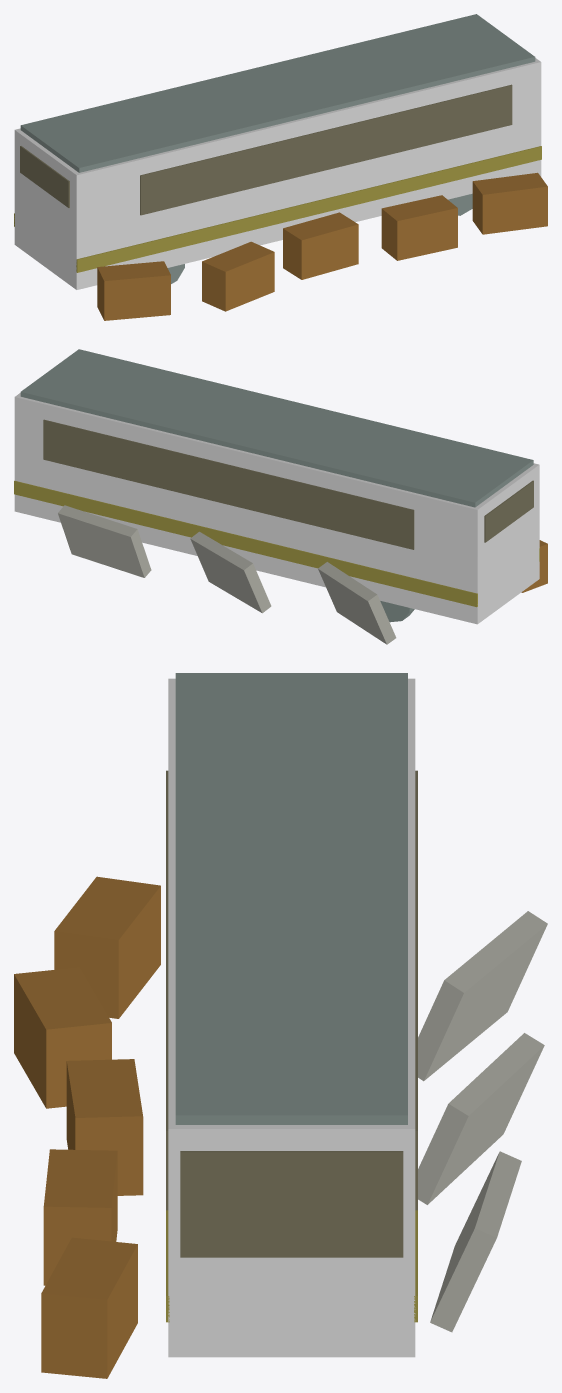
Rendered from SM_AutobusCruzado_v1_Barricada_LOD0.fbx.
The picture shows the model from 3 angles, top to bottom: view 1: azimuth 30°, elevation 25°; view 2: azimuth 150°, elevation 25°; view 3: azimuth 270°, elevation 25°; orthographic projection. The views are drawn at different scales.
Parts seen in each view (by area): view 1: SM_aqui_paso_algo_v16_LOD0; view 2: SM_aqui_paso_algo_v16_LOD0; view 3: SM_aqui_paso_algo_v16_LOD0.
Boxes of the visible parts, x1,y1,x2,y2 form: SM_aqui_paso_algo_v16_LOD0: [14, 14, 547, 320]; SM_aqui_paso_algo_v16_LOD0: [14, 349, 547, 644]; SM_aqui_paso_algo_v16_LOD0: [14, 673, 547, 1378].
Bounding box in the file's own units: 11.06 × 3.16 × 5.51.
